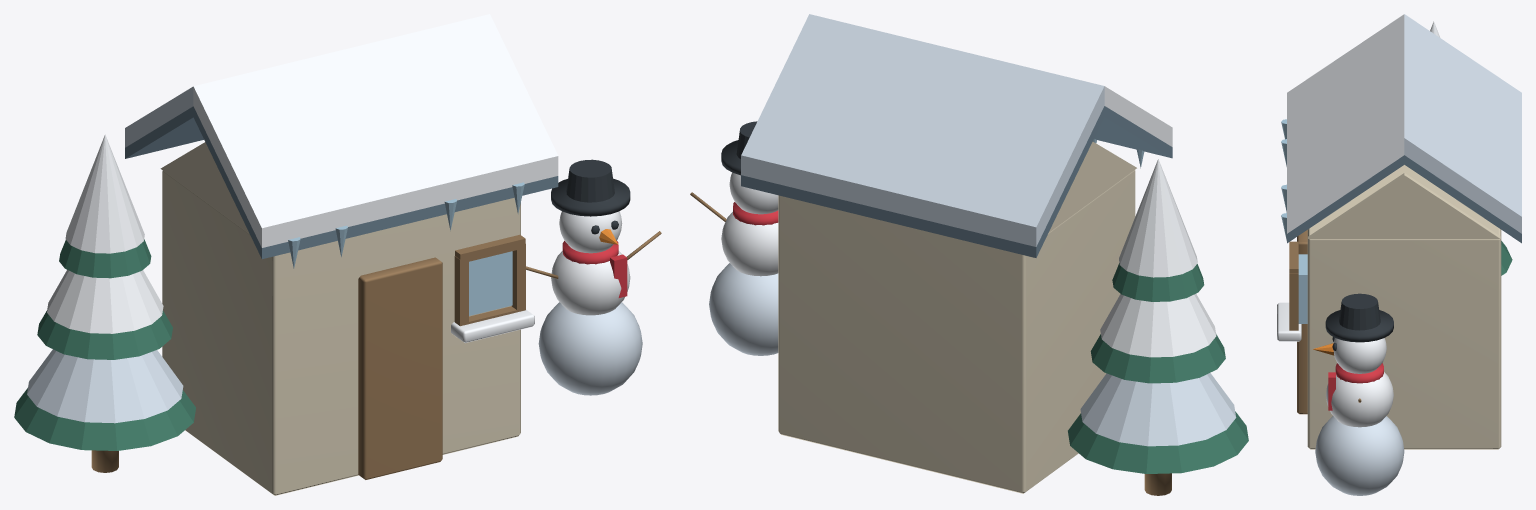
Rendered from snow_hut.glb.
The picture shows the model from 3 angles, left to right: view 1: azimuth 30°, elevation 25°; view 2: azimuth 150°, elevation 25°; view 3: azimuth 270°, elevation 25°; orthographic projection. The views are drawn at different scales.
Parts seen in each view (by area): view 1: Snow hut plaster body, Hut deep snow roof, Snow hut front door, Winter pine snowy tier, Snowman packed snow ball, Winter pine snowy tier.001, Winter pine green bough, Winter pine snowy tier.002, Hut thick roof, Winter pine green bough.001, Snowman packed snow ball.001, Hut gable triangle (+12 smaller); view 2: Snow hut plaster body, Hut deep snow roof.001, Winter pine snowy tier, Winter pine snowy tier.001, Winter pine green bough, Winter pine snowy tier.002, Snowman packed snow ball, Hut thick roof.001, Winter pine green bough.001, Snowman packed snow ball.001, Hut gable triangle, Winter pine green bough.002 (+3 smaller); view 3: Snow hut plaster body, Hut deep snow roof.001, Hut deep snow roof, Hut gable triangle.001, Snowman packed snow ball, Snowman packed snow ball.001, Snowman packed snow ball.002, Snowman top hat, Hut thick roof.001, Hut thick roof, Snowman hat brim, Snow hut front door (+5 smaller).
Boxes of the visible parts, <box> form: Snow hut plaster body: <box>162,171,520,495</box>; Hut deep snow roof: <box>193,14,558,247</box>; Snow hut front door: <box>358,257,442,479</box>; Winter pine snowy tier: <box>27,349,183,423</box>; Snowman packed snow ball: <box>538,302,642,395</box>; Winter pine snowy tier.001: <box>47,270,163,333</box>; Winter pine green bough: <box>14,388,195,450</box>; Winter pine snowy tier.002: <box>65,134,144,253</box>; Hut thick roof: <box>193,106,558,259</box>; Winter pine green bough.001: <box>37,311,172,359</box>; Snowman packed snow ball.001: <box>551,251,630,315</box>; Hut gable triangle: <box>160,142,249,233</box>; Snow hut plaster body: <box>778,170,1135,493</box>; Hut deep snow roof.001: <box>741,14,1104,246</box>; Winter pine snowy tier: <box>1080,373,1236,446</box>; Winter pine snowy tier.001: <box>1100,294,1216,357</box>; Winter pine green bough: <box>1068,411,1248,473</box>; Winter pine snowy tier.002: <box>1119,159,1197,277</box>; Snowman packed snow ball: <box>709,263,778,355</box>; Hut thick roof.001: <box>741,106,1104,257</box>; Winter pine green bough.001: <box>1090,334,1225,383</box>; Snowman packed snow ball.001: <box>721,212,778,276</box>; Hut gable triangle: <box>1048,142,1136,232</box>; Winter pine green bough.002: <box>1112,263,1204,301</box>; Snow hut plaster body: <box>1307,165,1501,449</box>; Hut deep snow roof.001: <box>1404,14,1521,233</box>; Hut deep snow roof: <box>1287,14,1404,233</box>; Hut gable triangle.001: <box>1308,173,1500,238</box>; Snowman packed snow ball: <box>1315,416,1404,495</box>; Snowman packed snow ball.001: <box>1326,372,1393,427</box>; Snowman packed snow ball.002: <box>1333,338,1386,373</box>; Snowman top hat: <box>1339,293,1380,330</box>; Hut thick roof.001: <box>1404,155,1521,243</box>; Hut thick roof: <box>1287,155,1404,243</box>; Snowman hat brim: <box>1325,310,1393,342</box>; Snow hut front door: <box>1297,230,1307,414</box>.
Size of the model in its own units: 5 by 3.03 by 2.09.
